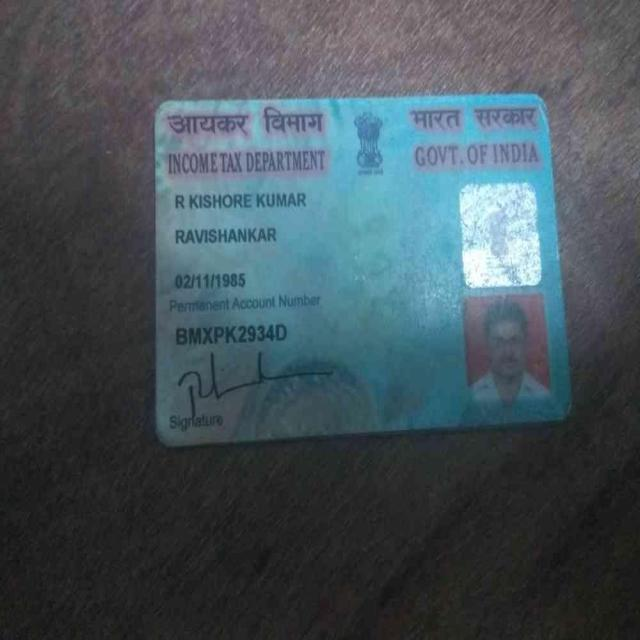pan_card: (161, 96, 567, 441)
